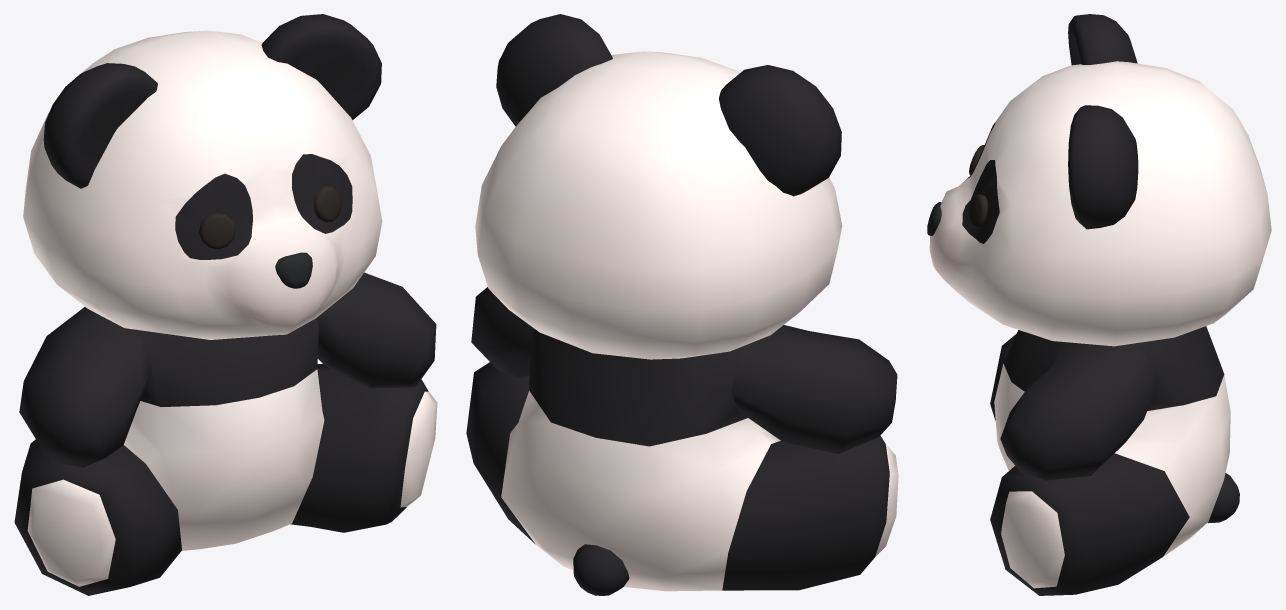
The model's file is panda.glb.
The picture shows the model from 3 angles, left to right: view 1: azimuth 30°, elevation 25°; view 2: azimuth 150°, elevation 25°; view 3: azimuth 270°, elevation 25°; orthographic projection. The views are drawn at different scales.
Visible parts, largest first — view 1: Panda_01; view 2: Panda_01; view 3: Panda_01.
Boxes of the visible parts, bbox=[...] form: Panda_01: bbox=[14, 14, 437, 595]; Panda_01: bbox=[466, 14, 898, 595]; Panda_01: bbox=[927, 14, 1271, 595].
Size of the model in its own units: 0.3281 by 0.3938 by 0.261.
2 materials, 2 textured.
